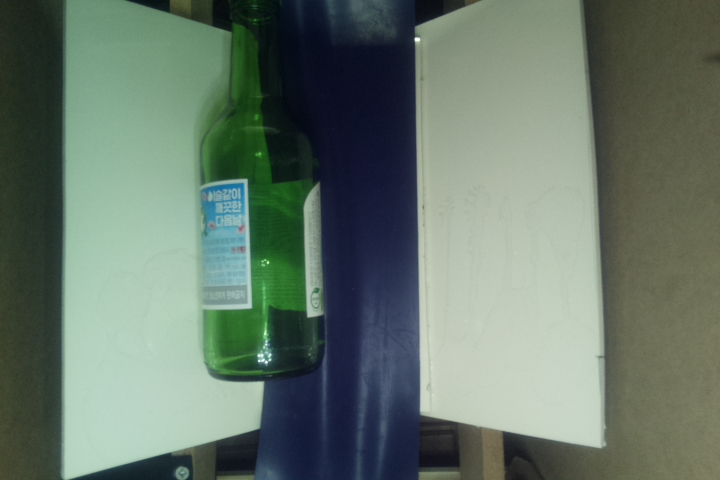soju: (203, 1, 327, 386)
